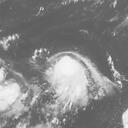cyclone: (48, 55, 100, 95)
